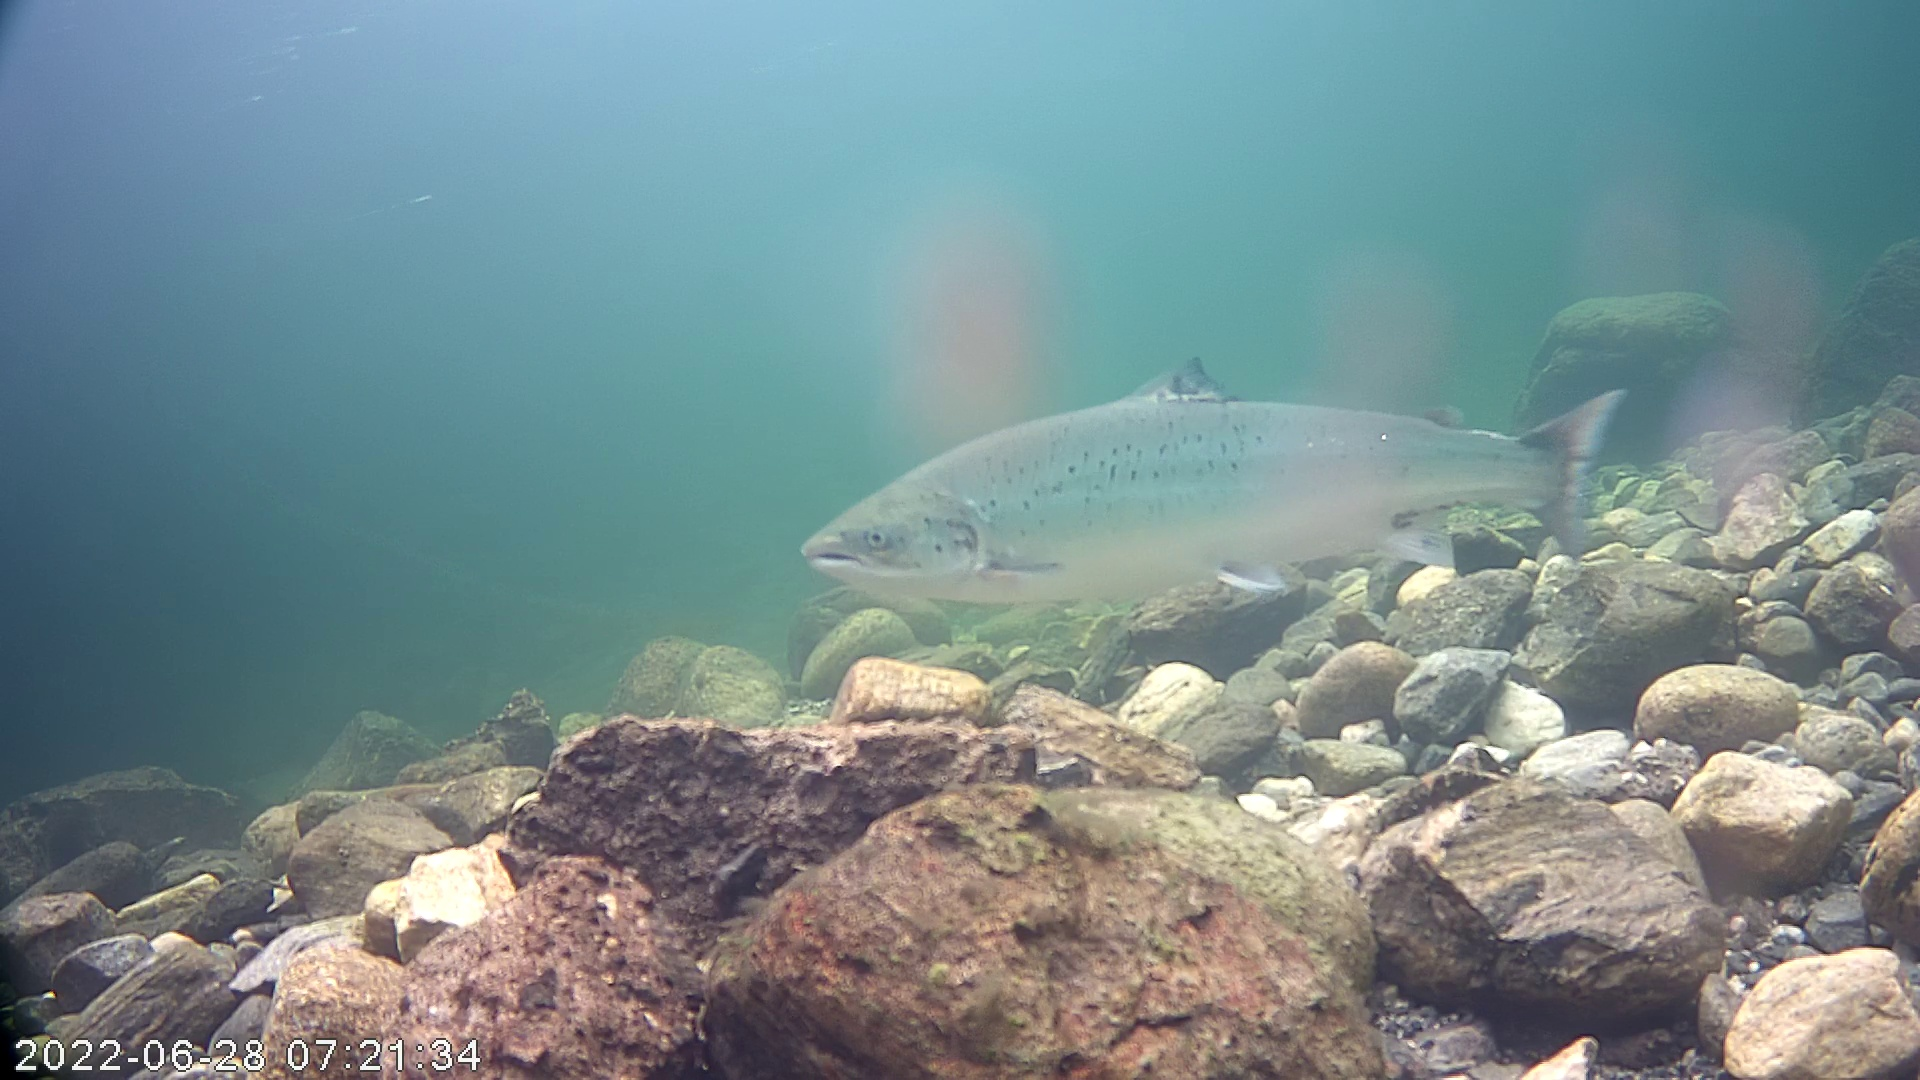salmon: (793, 237, 1639, 669)
